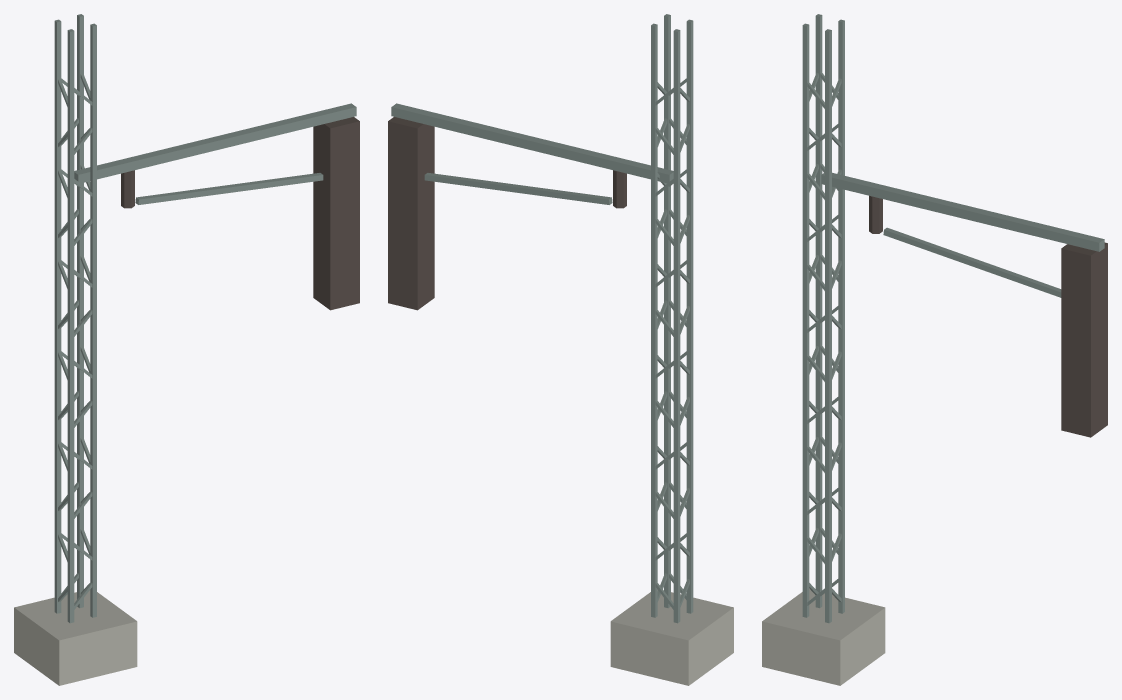
The model's file is SM_poste_catenaria_v5_LOD0.fbx.
3 views of the same model, side by side, from view 1: azimuth 30°, elevation 25°; view 2: azimuth 150°, elevation 25°; view 3: azimuth 330°, elevation 25° (orthographic).
Visible parts, largest first — view 1: SM_bloques.poste_catenaria_v5_LOD0; view 2: SM_bloques.poste_catenaria_v5_LOD0; view 3: SM_bloques.poste_catenaria_v5_LOD0.
Part boxes in pixels (bbox=[...]): SM_bloques.poste_catenaria_v5_LOD0: bbox=[14, 14, 359, 685]; SM_bloques.poste_catenaria_v5_LOD0: bbox=[388, 14, 733, 685]; SM_bloques.poste_catenaria_v5_LOD0: bbox=[762, 14, 1107, 685].
Size of the model in its own units: 3.65 by 7 by 0.9.
